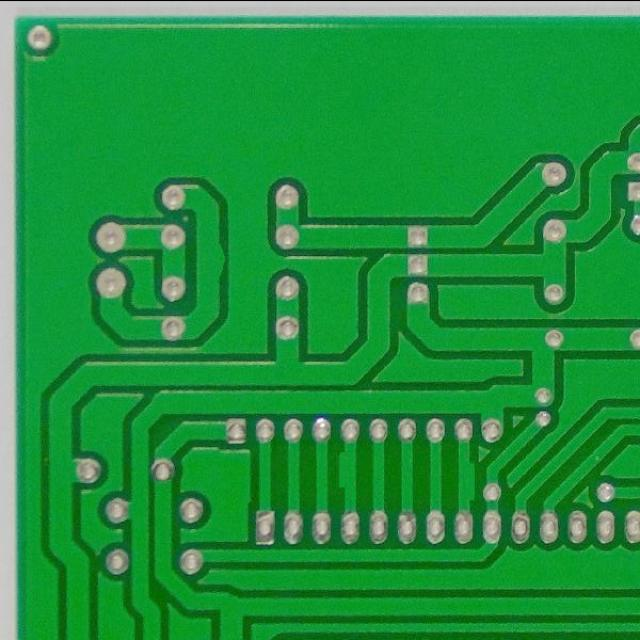Spur: (189, 237, 230, 288), (330, 444, 364, 495), (450, 456, 482, 506)
